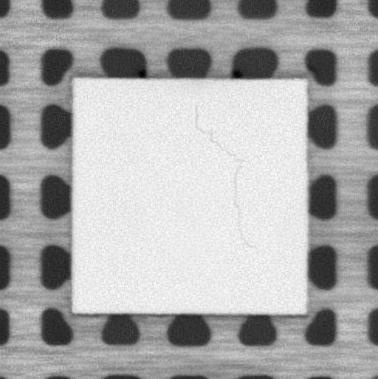DIE_CRACK: (190, 105, 257, 250)
